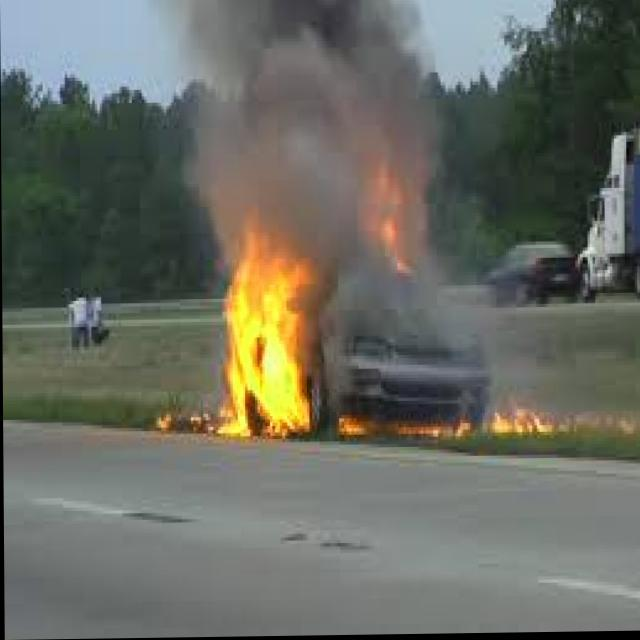fire: (209, 216, 326, 447), (342, 152, 437, 292)
